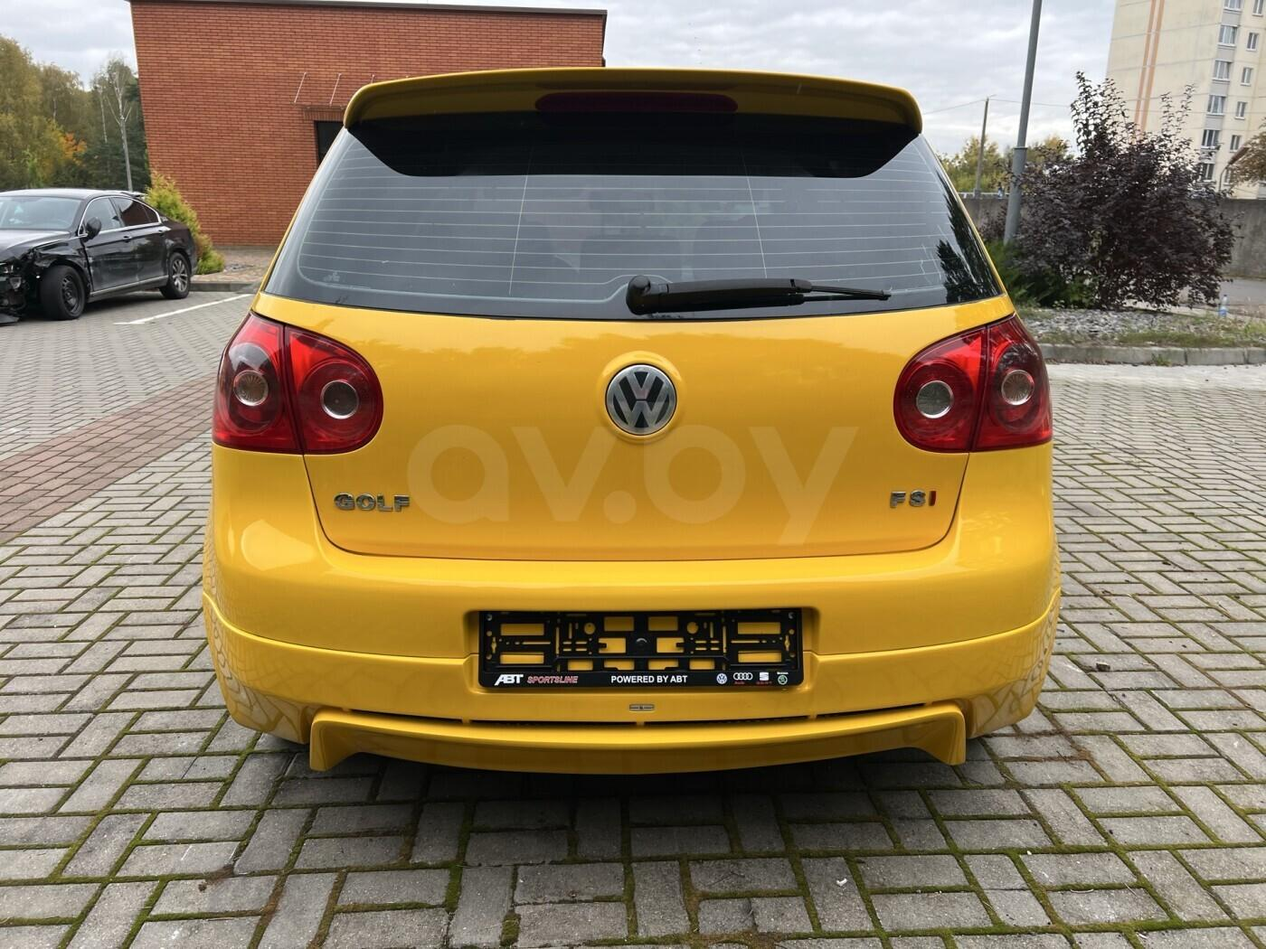Golf_2003-2009: (192, 49, 1060, 801)
